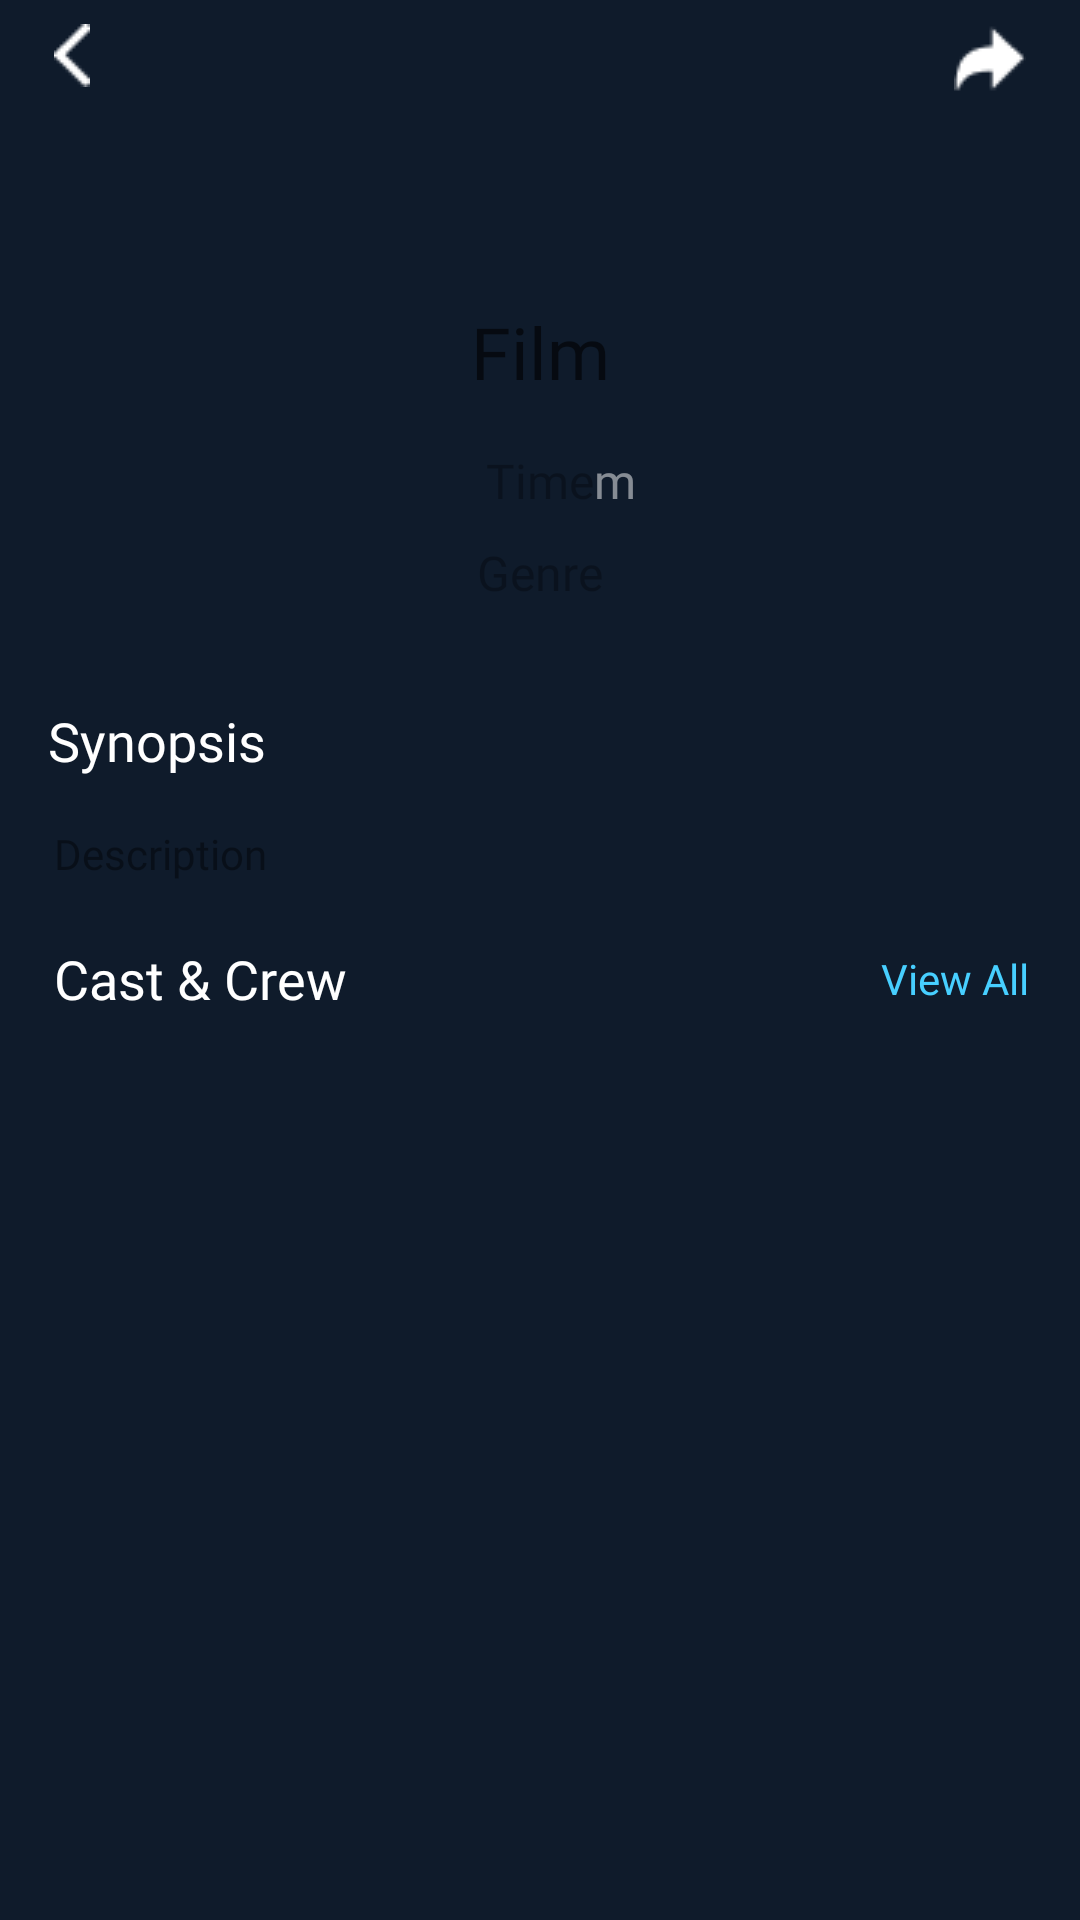

Locate icon controls on the screen. Image size 1080 × 1920, boxes as (x1, y1, x2, y2).
arrow: (54, 24, 90, 87)
respond arrow: (954, 28, 1024, 91)
